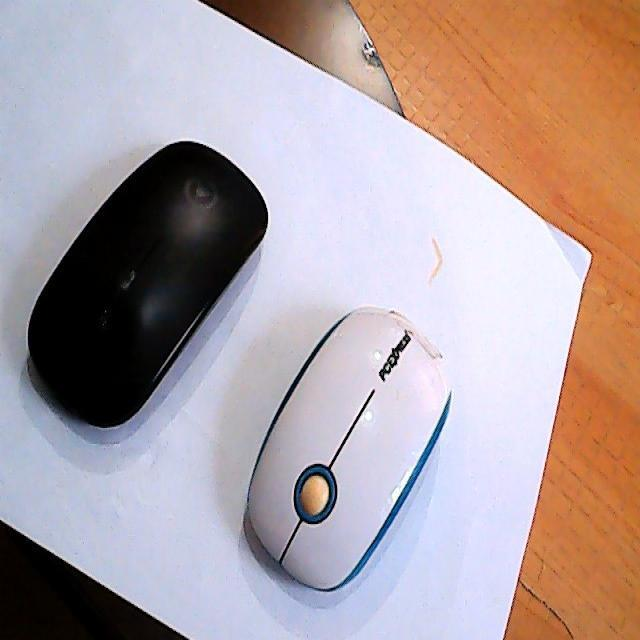Mouse: (28, 136, 268, 428), (245, 303, 453, 592)
